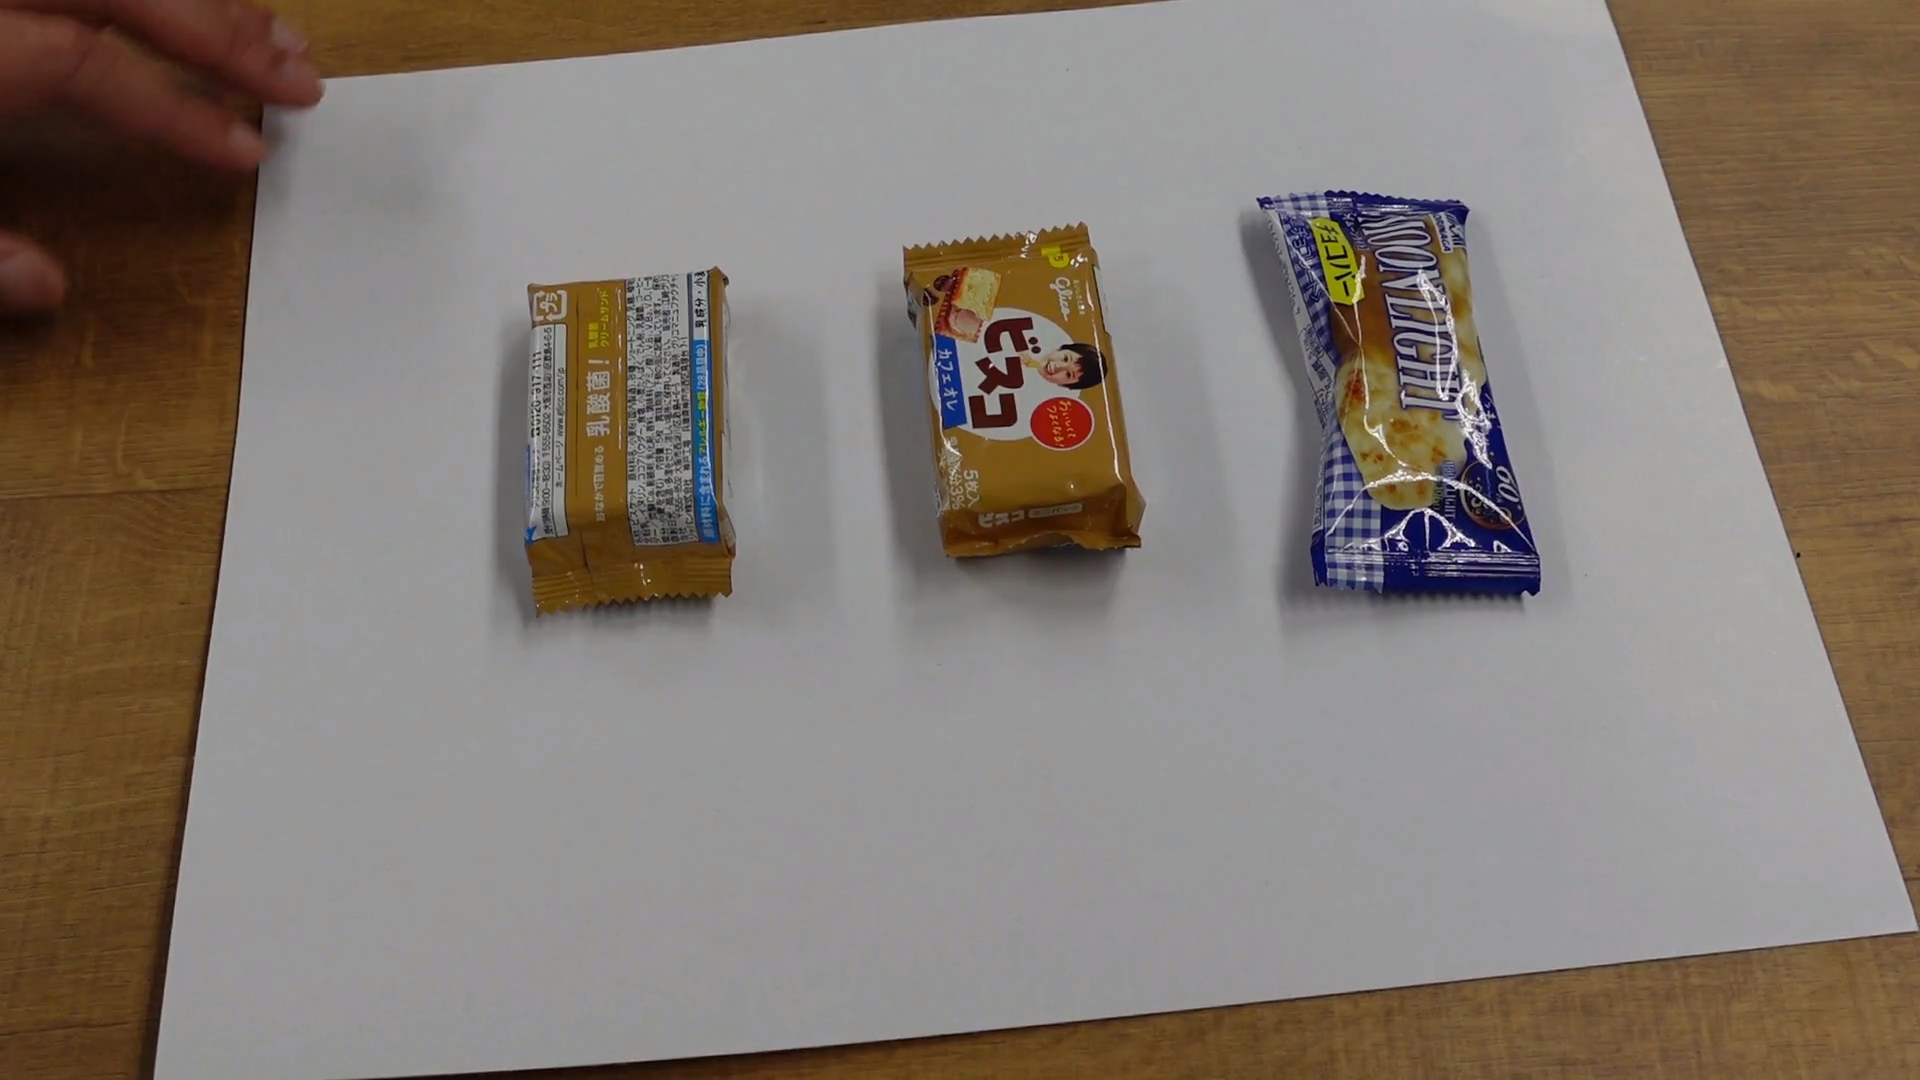BISCO_CafeAuLet: (903, 233, 1141, 574), (522, 272, 740, 603)
